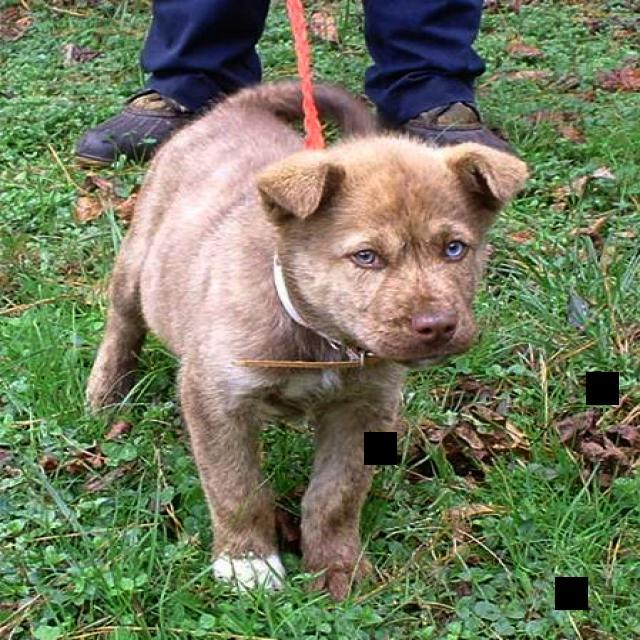non-dog: (77, 1, 520, 169)
puppy-dog: (82, 83, 530, 602)
